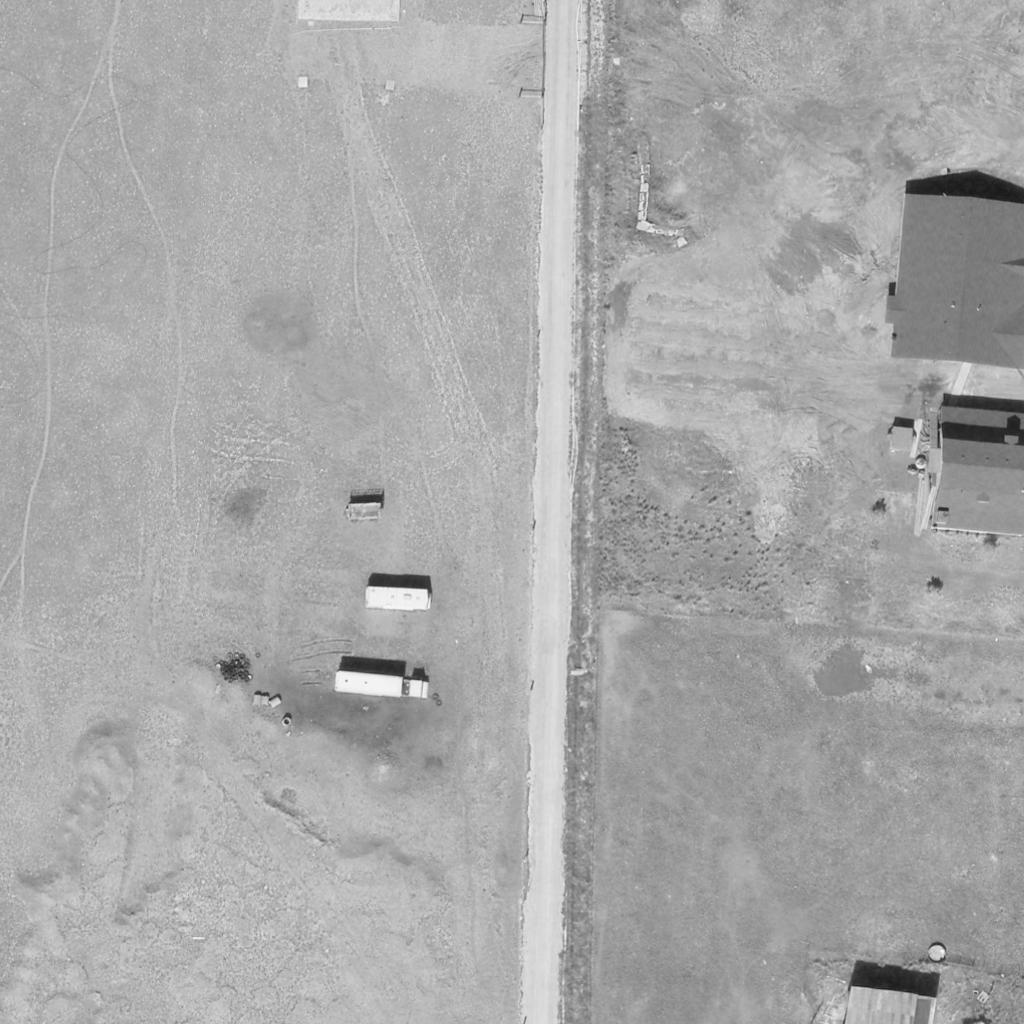vehicle: (333, 669, 429, 703), (364, 587, 434, 609)
